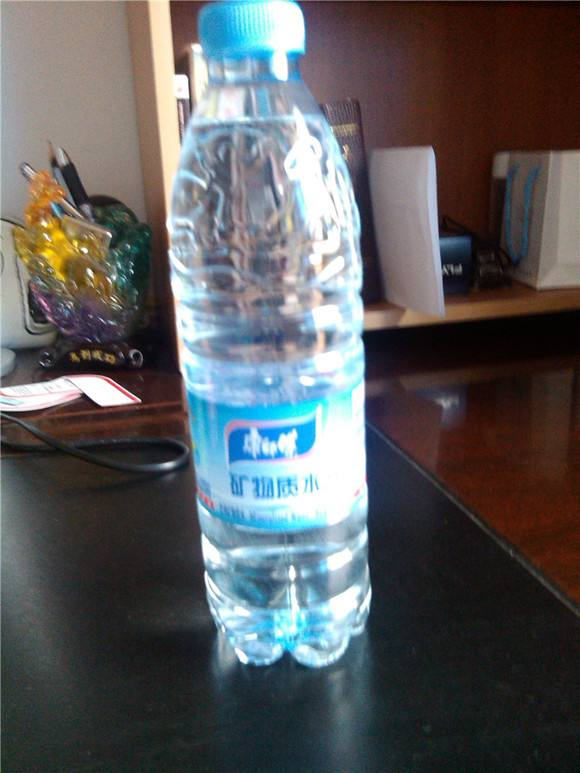amwater: (123, 1, 435, 683)
